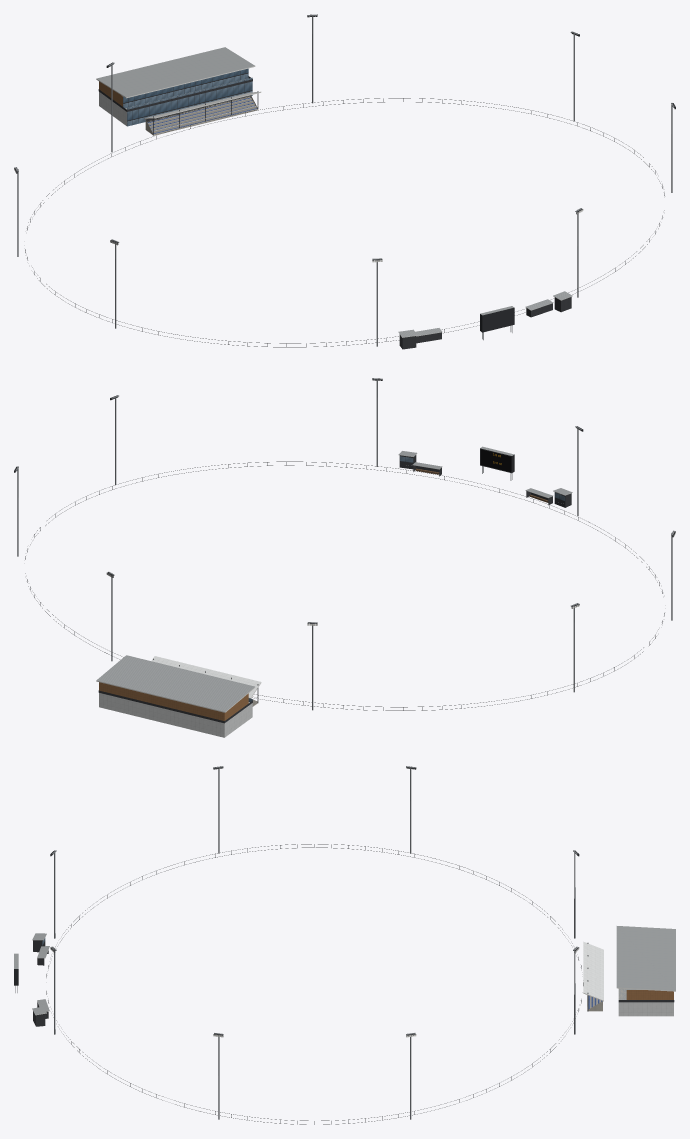
File: oval_t5_hub.glb
The picture shows the model from 3 angles, top to bottom: view 1: azimuth 30°, elevation 25°; view 2: azimuth 150°, elevation 25°; view 3: azimuth 270°, elevation 25°; orthographic projection. The views are drawn at different scales.
Parts seen in each view (by area): view 1: buildings, stands, lights, fence_posts, boxes, scoreboard; view 2: buildings, lights, fence_posts, boxes, stands, scoreboard; view 3: buildings, lights, stands, fence_posts, boxes.
Boxes of the visible parts, bbox=[...] form: buildings: bbox=[96, 47, 255, 126]; stands: bbox=[144, 91, 261, 135]; lights: bbox=[14, 14, 675, 346]; fence_posts: bbox=[25, 98, 664, 347]; boxes: bbox=[398, 291, 572, 349]; scoreboard: bbox=[480, 306, 514, 340]; buildings: bbox=[96, 655, 255, 737]; lights: bbox=[14, 378, 675, 710]; fence_posts: bbox=[25, 461, 664, 710]; boxes: bbox=[398, 451, 572, 507]; stands: bbox=[151, 656, 261, 706]; scoreboard: bbox=[480, 446, 514, 480]; buildings: bbox=[616, 926, 675, 1016]; lights: bbox=[50, 766, 579, 1119]; stands: bbox=[583, 941, 603, 1011]; fence_posts: bbox=[46, 844, 583, 1124]; boxes: bbox=[32, 933, 49, 1026].
Size of what is drawn, in the model's own units: 166 by 24.05 by 168.
Materials: 14 (14 with a texture image).
